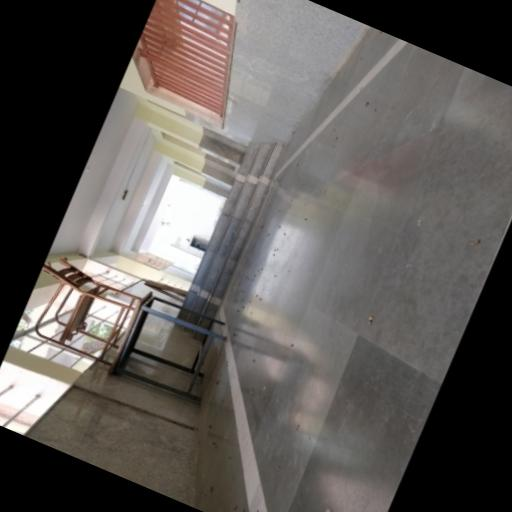stairs: (183, 143, 282, 318)
